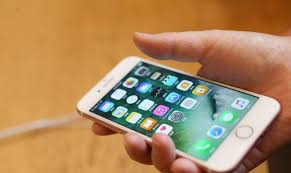mobil: (74, 54, 282, 172)
